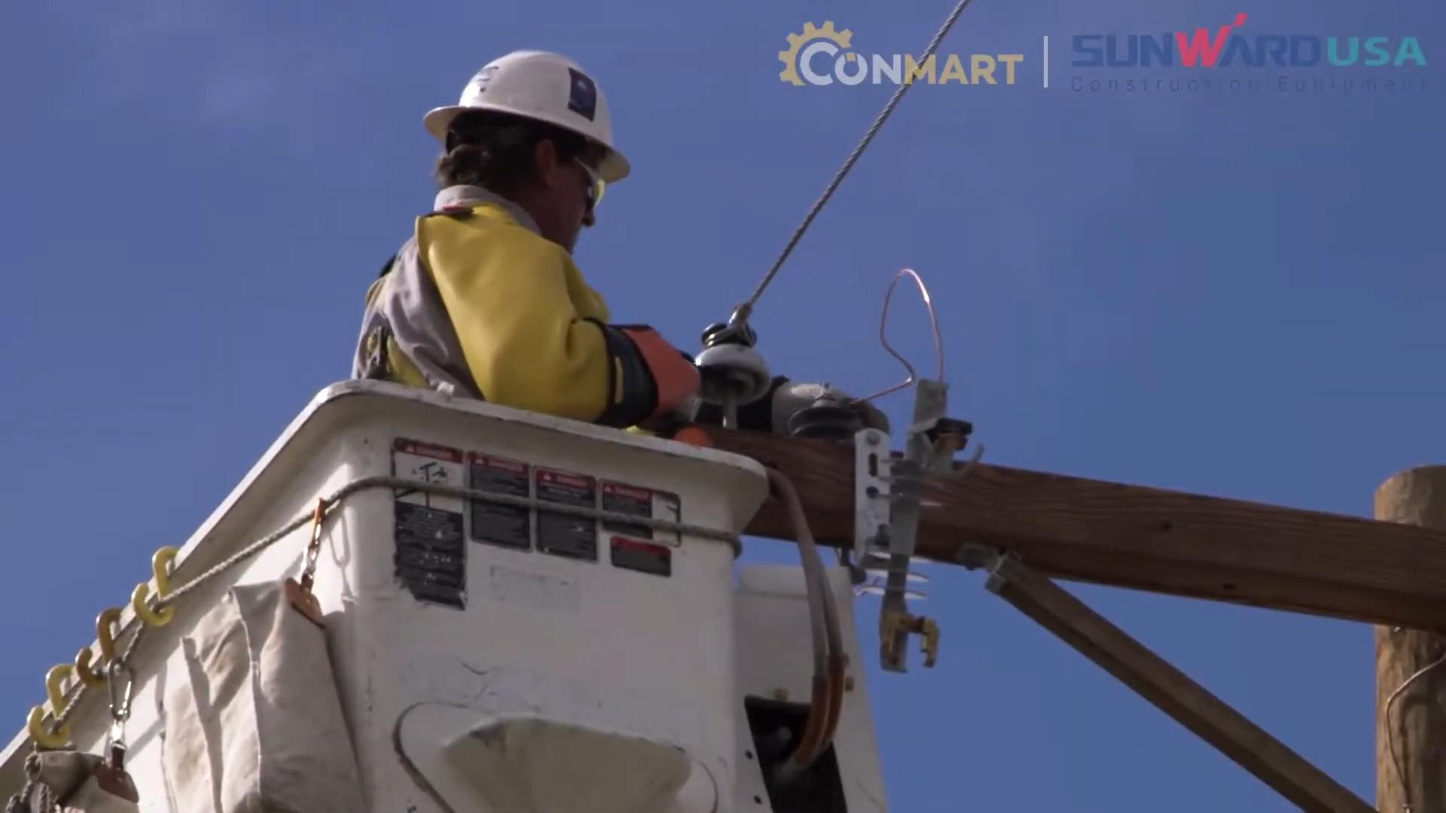Helmet: (421, 47, 631, 182)
Person: (340, 39, 681, 442)
Safety Vest: (379, 206, 667, 430)
